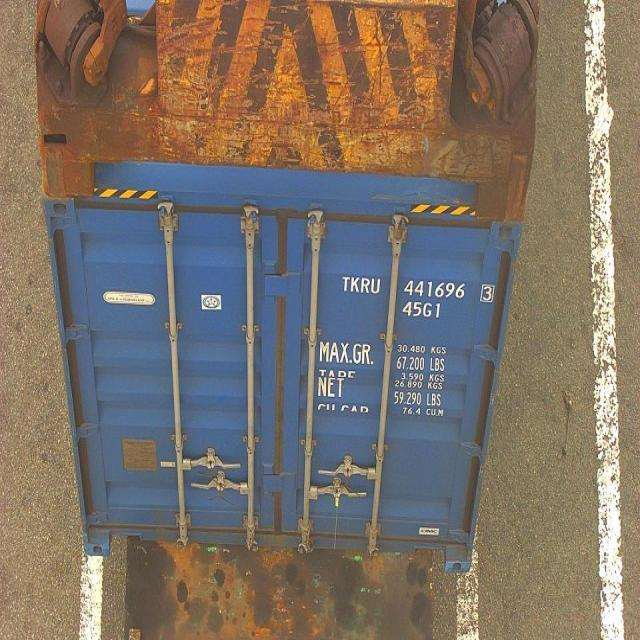ISO: (402, 301, 444, 320)
container_number: (341, 280, 492, 300)
